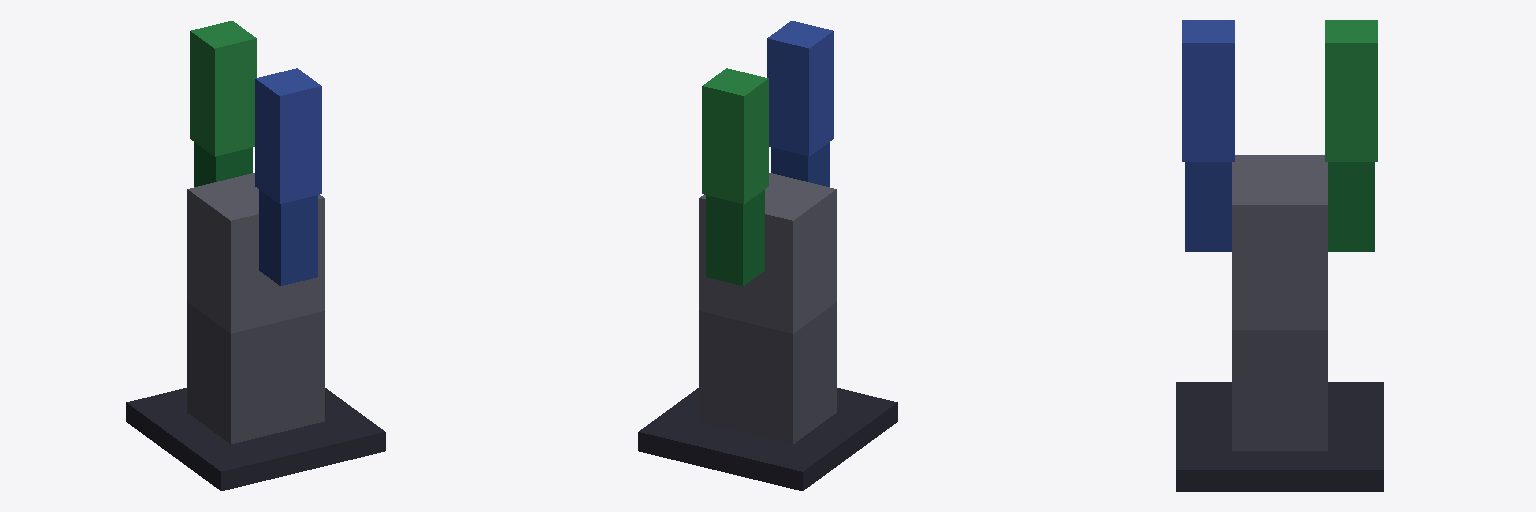
The robot description file, URDF, robot "robot":
<?xml version="1.0" ?>
<!-- =================================================================================== -->
<!-- |    This document was autogenerated by xacro from ros\src\description\urdf\robot.urdf.xacro | -->
<!-- |    EDITING THIS FILE BY HAND IS NOT RECOMMENDED                                 | -->
<!-- =================================================================================== -->
<!--
  Rudy humanoid — kinematic skeleton for Phase 1.
  Joint limits mirror mr_robot config/robot.yaml (RS03 caps: 60 Nm, 50 rad/s).
  Frame convention: x forward, y left, z up. Left arm attaches on +y side of torso.
-->
<robot name="robot">
  <link name="base_link">
    <visual>
      <origin rpy="0 0 0" xyz="0 0 0"/>
      <geometry>
        <box size="0.35 0.35 0.04"/>
      </geometry>
      <material name="base_link_mat">
        <color rgba="0.2 0.2 0.25 1"/>
      </material>
    </visual>
    <collision>
      <origin rpy="0 0 0" xyz="0 0 0"/>
      <geometry>
        <box size="0.35 0.35 0.04"/>
      </geometry>
    </collision>
    <inertial>
      <origin rpy="0 0 0" xyz="0 0 0"/>
      <mass value="2.0"/>
      <inertia ixx="0.02068333333333333" ixy="0.0" ixz="0.0" iyy="0.02068333333333333" iyz="0.0" izz="0.040833333333333326"/>
    </inertial>
  </link>
  <link name="torso_lower_link">
    <visual>
      <origin rpy="0 0 0" xyz="0 0 0"/>
      <geometry>
        <box size="0.2 0.16 0.23"/>
      </geometry>
      <material name="torso_lower_link_mat">
        <color rgba="0.35 0.35 0.4 1"/>
      </material>
    </visual>
    <collision>
      <origin rpy="0 0 0" xyz="0 0 0"/>
      <geometry>
        <box size="0.2 0.16 0.23"/>
      </geometry>
    </collision>
    <inertial>
      <origin rpy="0 0 0" xyz="0 0 0"/>
      <mass value="8.0"/>
      <inertia ixx="0.052333333333333336" ixy="0.0" ixz="0.0" iyy="0.06193333333333334" iyz="0.0" izz="0.04373333333333334"/>
    </inertial>
  </link>
  <joint name="base_to_torso_lower" type="fixed">
    <origin rpy="0 0 0" xyz="0 0 0.13"/>
    <parent link="base_link"/>
    <child link="torso_lower_link"/>
  </joint>
  <link name="torso_upper_link">
    <visual>
      <origin rpy="0 0 0" xyz="0 0 0"/>
      <geometry>
        <box size="0.2 0.16 0.23"/>
      </geometry>
      <material name="torso_upper_link_mat">
        <color rgba="0.4 0.4 0.45 1"/>
      </material>
    </visual>
    <collision>
      <origin rpy="0 0 0" xyz="0 0 0"/>
      <geometry>
        <box size="0.2 0.16 0.23"/>
      </geometry>
    </collision>
    <inertial>
      <origin rpy="0 0 0" xyz="0 0 0"/>
      <mass value="8.0"/>
      <inertia ixx="0.052333333333333336" ixy="0.0" ixz="0.0" iyy="0.06193333333333334" iyz="0.0" izz="0.04373333333333334"/>
    </inertial>
  </link>
  <joint name="waist_rotation_joint" type="revolute">
    <origin rpy="0 0 0" xyz="0 0 0.23"/>
    <parent link="torso_lower_link"/>
    <child link="torso_upper_link"/>
    <axis xyz="0 0 1"/>
    <limit effort="60.0" lower="-1.57" upper="1.57" velocity="50.0"/>
    <dynamics damping="0.3" friction="0.08"/>
    <safety_controller k_position="15.0" k_velocity="10.0" soft_lower_limit="-1.45" soft_upper_limit="1.45"/>
  </joint>
  <link name="l_shoulder_pitch_link">
    <visual>
      <origin rpy="0 0 0" xyz="0 0 0"/>
      <geometry>
        <mesh filename="package://description/meshes/shoulder_housing.glb" scale="1 1 1"/>
      </geometry>
      <material name="l_shoulder_pitch_link_mat">
        <color rgba="0.2 0.55 0.3 1"/>
      </material>
    </visual>
    <collision>
      <origin rpy="0 0 0" xyz="0 0 0"/>
      <geometry>
        <box size="0.08 0.08 0.14"/>
      </geometry>
    </collision>
    <inertial>
      <origin rpy="0 0 0" xyz="0 0 0"/>
      <mass value="0.6"/>
      <inertia ixx="0.0013000000000000002" ixy="0.0" ixz="0.0" iyy="0.0013000000000000002" iyz="0.0" izz="0.00064"/>
    </inertial>
  </link>
  <link name="l_shoulder_roll_link">
    <visual>
      <origin rpy="0 0 0" xyz="0 0 0"/>
      <geometry>
        <mesh filename="package://description/meshes/shoulder_housing_cap.glb" scale="1 1 1"/>
      </geometry>
      <material name="l_shoulder_roll_link_mat">
        <color rgba="0.2 0.55 0.3 1"/>
      </material>
    </visual>
    <collision>
      <origin rpy="0 0 0" xyz="0 0 0"/>
      <geometry>
        <box size="0.1 0.1 0.12"/>
      </geometry>
    </collision>
    <inertial>
      <origin rpy="0 0 0" xyz="0 0 0"/>
      <mass value="0.5"/>
      <inertia ixx="0.0010166666666666668" ixy="0.0" ixz="0.0" iyy="0.0010166666666666668" iyz="0.0" izz="0.0008333333333333335"/>
    </inertial>
  </link>
  <link name="l_upper_arm_link">
    <visual>
      <origin rpy="0 0 0" xyz="0 0 0"/>
      <geometry>
        <box size="0.09 0.09 0.22"/>
      </geometry>
      <material name="l_upper_arm_link_mat">
        <color rgba="0.2 0.55 0.3 1"/>
      </material>
    </visual>
    <collision>
      <origin rpy="0 0 0" xyz="0 0 0"/>
      <geometry>
        <box size="0.09 0.09 0.22"/>
      </geometry>
    </collision>
    <inertial>
      <origin rpy="0 0 0" xyz="0 0 0"/>
      <mass value="0.7"/>
      <inertia ixx="0.003295833333333333" ixy="0.0" ixz="0.0" iyy="0.003295833333333333" iyz="0.0" izz="0.000945"/>
    </inertial>
  </link>
  <link name="l_forearm_link">
    <visual>
      <origin rpy="0 0 0" xyz="0 0 0"/>
      <geometry>
        <box size="0.08 0.08 0.2"/>
      </geometry>
      <material name="l_forearm_link_mat">
        <color rgba="0.15 0.45 0.25 1"/>
      </material>
    </visual>
    <collision>
      <origin rpy="0 0 0" xyz="0 0 0"/>
      <geometry>
        <box size="0.08 0.08 0.2"/>
      </geometry>
    </collision>
    <inertial>
      <origin rpy="0 0 0" xyz="0 0 0"/>
      <mass value="0.5"/>
      <inertia ixx="0.0019333333333333338" ixy="0.0" ixz="0.0" iyy="0.0019333333333333338" iyz="0.0" izz="0.0005333333333333334"/>
    </inertial>
  </link>
  <joint name="l_shoulder_pitch_joint" type="revolute">
    <origin rpy="0 0 0" xyz="0 0.12 0.10"/>
    <parent link="torso_upper_link"/>
    <child link="l_shoulder_pitch_link"/>
    <axis xyz="0 1 0"/>
    <limit effort="60.0" lower="-1.57" upper="3.14" velocity="50.0"/>
    <dynamics damping="0.3" friction="0.08"/>
    <safety_controller k_position="15.0" k_velocity="10.0" soft_lower_limit="-1.45" soft_upper_limit="3.02"/>
  </joint>
  <joint name="l_shoulder_roll_joint" type="revolute">
    <origin rpy="0 0 0" xyz="0 0 0.10"/>
    <parent link="l_shoulder_pitch_link"/>
    <child link="l_shoulder_roll_link"/>
    <axis xyz="1 0 0"/>
    <limit effort="60.0" lower="0.0" upper="3.14" velocity="50.0"/>
    <dynamics damping="0.3" friction="0.08"/>
    <safety_controller k_position="15.0" k_velocity="10.0" soft_lower_limit="0.12" soft_upper_limit="3.02"/>
  </joint>
  <joint name="l_upper_arm_yaw_joint" type="revolute">
    <origin rpy="0 0 0" xyz="0 0 0.08"/>
    <parent link="l_shoulder_roll_link"/>
    <child link="l_upper_arm_link"/>
    <axis xyz="0 0 1"/>
    <limit effort="60.0" lower="-1.57" upper="1.57" velocity="50.0"/>
    <dynamics damping="0.3" friction="0.08"/>
    <safety_controller k_position="15.0" k_velocity="10.0" soft_lower_limit="-1.45" soft_upper_limit="1.45"/>
  </joint>
  <joint name="l_elbow_pitch_joint" type="revolute">
    <origin rpy="0 0 0" xyz="0 0 -0.18"/>
    <parent link="l_upper_arm_link"/>
    <child link="l_forearm_link"/>
    <axis xyz="0 1 0"/>
    <limit effort="60.0" lower="0.0" upper="2.36" velocity="50.0"/>
    <dynamics damping="0.3" friction="0.08"/>
    <safety_controller k_position="15.0" k_velocity="10.0" soft_lower_limit="0.12" soft_upper_limit="2.24"/>
  </joint>
  <link name="r_shoulder_pitch_link">
    <visual>
      <origin rpy="0 0 3.14159" xyz="0 0 0"/>
      <geometry>
        <mesh filename="package://description/meshes/shoulder_housing.glb" scale="1 1 1"/>
      </geometry>
      <material name="r_shoulder_pitch_link_mat">
        <color rgba="0.25 0.35 0.65 1"/>
      </material>
    </visual>
    <collision>
      <origin rpy="0 0 0" xyz="0 0 0"/>
      <geometry>
        <box size="0.08 0.08 0.14"/>
      </geometry>
    </collision>
    <inertial>
      <origin rpy="0 0 0" xyz="0 0 0"/>
      <mass value="0.6"/>
      <inertia ixx="0.0013000000000000002" ixy="0.0" ixz="0.0" iyy="0.0013000000000000002" iyz="0.0" izz="0.00064"/>
    </inertial>
  </link>
  <link name="r_shoulder_roll_link">
    <visual>
      <origin rpy="0 0 3.14159" xyz="0 0 0"/>
      <geometry>
        <mesh filename="package://description/meshes/shoulder_housing_cap.glb" scale="1 1 1"/>
      </geometry>
      <material name="r_shoulder_roll_link_mat">
        <color rgba="0.25 0.35 0.65 1"/>
      </material>
    </visual>
    <collision>
      <origin rpy="0 0 0" xyz="0 0 0"/>
      <geometry>
        <box size="0.1 0.1 0.12"/>
      </geometry>
    </collision>
    <inertial>
      <origin rpy="0 0 0" xyz="0 0 0"/>
      <mass value="0.5"/>
      <inertia ixx="0.0010166666666666668" ixy="0.0" ixz="0.0" iyy="0.0010166666666666668" iyz="0.0" izz="0.0008333333333333335"/>
    </inertial>
  </link>
  <link name="r_upper_arm_link">
    <visual>
      <origin rpy="0 0 0" xyz="0 0 0"/>
      <geometry>
        <box size="0.09 0.09 0.22"/>
      </geometry>
      <material name="r_upper_arm_link_mat">
        <color rgba="0.25 0.35 0.65 1"/>
      </material>
    </visual>
    <collision>
      <origin rpy="0 0 0" xyz="0 0 0"/>
      <geometry>
        <box size="0.09 0.09 0.22"/>
      </geometry>
    </collision>
    <inertial>
      <origin rpy="0 0 0" xyz="0 0 0"/>
      <mass value="0.7"/>
      <inertia ixx="0.003295833333333333" ixy="0.0" ixz="0.0" iyy="0.003295833333333333" iyz="0.0" izz="0.000945"/>
    </inertial>
  </link>
  <link name="r_forearm_link">
    <visual>
      <origin rpy="0 0 0" xyz="0 0 0"/>
      <geometry>
        <box size="0.08 0.08 0.2"/>
      </geometry>
      <material name="r_forearm_link_mat">
        <color rgba="0.2 0.3 0.55 1"/>
      </material>
    </visual>
    <collision>
      <origin rpy="0 0 0" xyz="0 0 0"/>
      <geometry>
        <box size="0.08 0.08 0.2"/>
      </geometry>
    </collision>
    <inertial>
      <origin rpy="0 0 0" xyz="0 0 0"/>
      <mass value="0.5"/>
      <inertia ixx="0.0019333333333333338" ixy="0.0" ixz="0.0" iyy="0.0019333333333333338" iyz="0.0" izz="0.0005333333333333334"/>
    </inertial>
  </link>
  <joint name="r_shoulder_pitch_joint" type="revolute">
    <origin rpy="0 0 0" xyz="0 -0.12 0.10"/>
    <parent link="torso_upper_link"/>
    <child link="r_shoulder_pitch_link"/>
    <axis xyz="0 1 0"/>
    <limit effort="60.0" lower="-1.57" upper="3.14" velocity="50.0"/>
    <dynamics damping="0.3" friction="0.08"/>
    <safety_controller k_position="15.0" k_velocity="10.0" soft_lower_limit="-1.45" soft_upper_limit="3.02"/>
  </joint>
  <joint name="r_shoulder_roll_joint" type="revolute">
    <origin rpy="0 0 0" xyz="0 0 0.10"/>
    <parent link="r_shoulder_pitch_link"/>
    <child link="r_shoulder_roll_link"/>
    <axis xyz="1 0 0"/>
    <limit effort="60.0" lower="-3.14" upper="0.0" velocity="50.0"/>
    <dynamics damping="0.3" friction="0.08"/>
    <safety_controller k_position="15.0" k_velocity="10.0" soft_lower_limit="-3.02" soft_upper_limit="-0.12"/>
  </joint>
  <joint name="r_upper_arm_yaw_joint" type="revolute">
    <origin rpy="0 0 0" xyz="0 0 0.08"/>
    <parent link="r_shoulder_roll_link"/>
    <child link="r_upper_arm_link"/>
    <axis xyz="0 0 1"/>
    <limit effort="60.0" lower="-1.57" upper="1.57" velocity="50.0"/>
    <dynamics damping="0.3" friction="0.08"/>
    <safety_controller k_position="15.0" k_velocity="10.0" soft_lower_limit="-1.45" soft_upper_limit="1.45"/>
  </joint>
  <joint name="r_elbow_pitch_joint" type="revolute">
    <origin rpy="0 0 0" xyz="0 0 -0.18"/>
    <parent link="r_upper_arm_link"/>
    <child link="r_forearm_link"/>
    <axis xyz="0 1 0"/>
    <limit effort="60.0" lower="-2.36" upper="0.0" velocity="50.0"/>
    <dynamics damping="0.3" friction="0.08"/>
    <safety_controller k_position="15.0" k_velocity="10.0" soft_lower_limit="-2.24" soft_upper_limit="-0.12"/>
  </joint>
</robot>

--- What the picture shows (computed from the rendered views, not written in the file) ---
3 views of the same robot in one strip: view 1: azimuth 30°, elevation 25°; view 2: azimuth 150°, elevation 25°; view 3: azimuth 270°, elevation 25° (orthographic).
Robot: robot — 11 links, 10 joints (9 revolute, 1 fixed); root link base_link; default pose: every joint at zero.
Links seen in each view (by area): view 1: torso_lower_link, torso_upper_link, base_link, r_upper_arm_link, l_upper_arm_link, r_forearm_link, l_forearm_link; view 2: torso_lower_link, torso_upper_link, base_link, l_upper_arm_link, r_upper_arm_link, l_forearm_link, r_forearm_link; view 3: torso_upper_link, base_link, torso_lower_link, l_upper_arm_link, r_upper_arm_link, l_forearm_link, r_forearm_link.
Boxes of the visible links, left/top/right/bottom form: torso_lower_link: left=187, top=302, right=324, bottom=443; torso_upper_link: left=187, top=173, right=324, bottom=333; base_link: left=126, top=388, right=385, bottom=490; r_upper_arm_link: left=255, top=68, right=321, bottom=203; l_upper_arm_link: left=190, top=21, right=256, bottom=156; r_forearm_link: left=259, top=190, right=317, bottom=285; l_forearm_link: left=194, top=142, right=252, bottom=186; torso_lower_link: left=699, top=302, right=836, bottom=443; torso_upper_link: left=699, top=173, right=836, bottom=333; base_link: left=638, top=388, right=897, bottom=490; l_upper_arm_link: left=702, top=68, right=768, bottom=203; r_upper_arm_link: left=767, top=21, right=833, bottom=156; l_forearm_link: left=706, top=190, right=764, bottom=285; r_forearm_link: left=771, top=142, right=829, bottom=186; torso_upper_link: left=1232, top=155, right=1327, bottom=329; base_link: left=1176, top=382, right=1383, bottom=491; torso_lower_link: left=1232, top=330, right=1327, bottom=450; l_upper_arm_link: left=1325, top=20, right=1377, bottom=161; r_upper_arm_link: left=1182, top=20, right=1234, bottom=161; l_forearm_link: left=1328, top=162, right=1374, bottom=251; r_forearm_link: left=1185, top=162, right=1231, bottom=251.
Size in the robot's own frame: 0.35 by 0.35 by 0.77 metres.
0 mesh visuals loaded from 2 distinct referenced files (none loaded); not drawn: 4 (reference not matched to a file when rendering).
